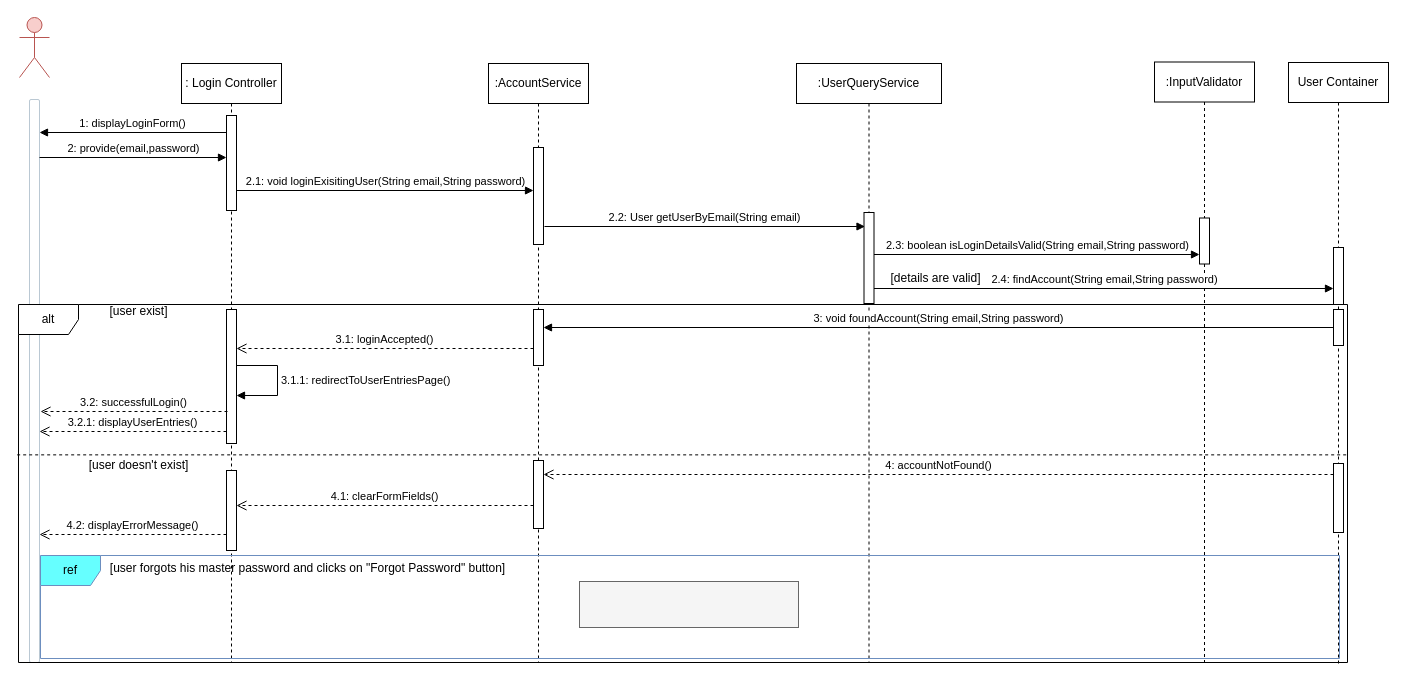
Image size: 1407x681. Some labels were removed from this diagram. Here are the shapes that lost their labels. From the top down, the centre of each, then its label:
At point 34,47: "User".
At point 688,604: "Recover Access".
